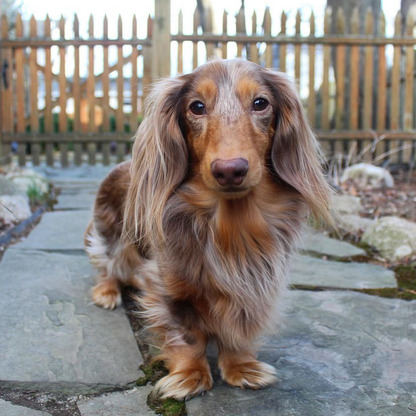dachshund: (79, 57, 348, 392)
